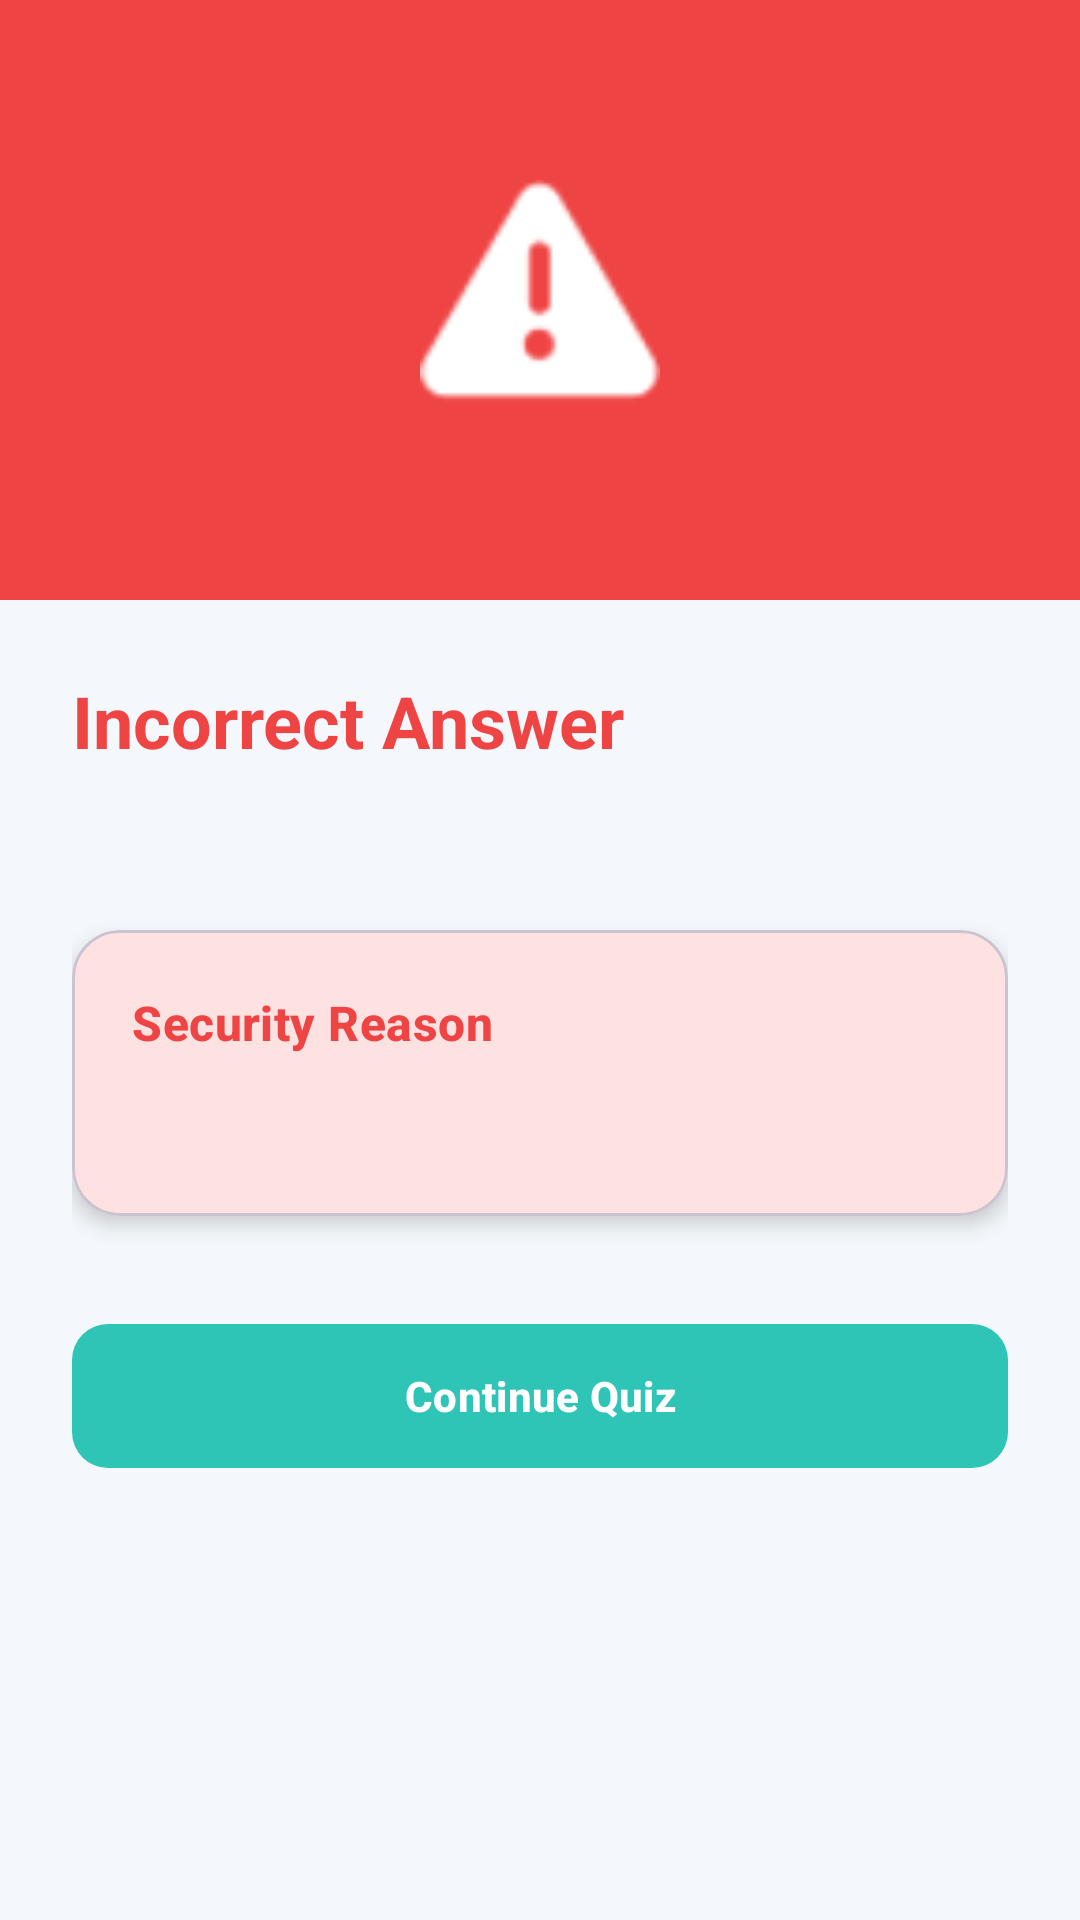

Screen size 1080px×1920px. Icon name, then its center in pixels as (x=x, y=y):
alert: (x=540, y=289)
